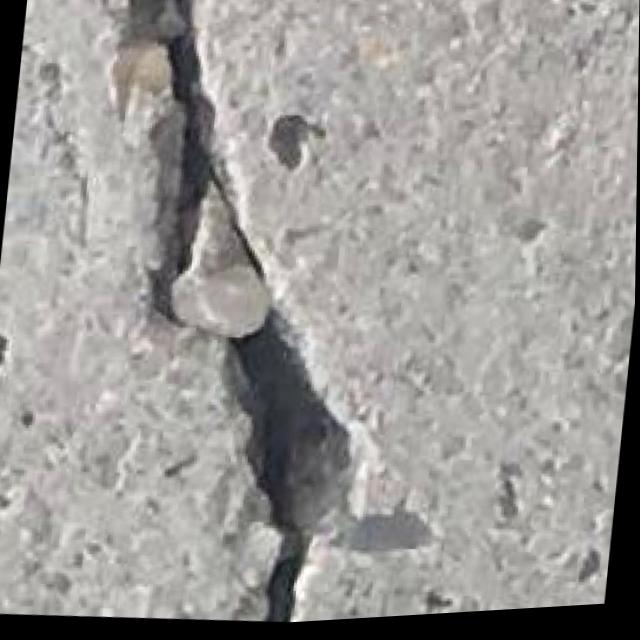Crack: (44, 0, 427, 638)
